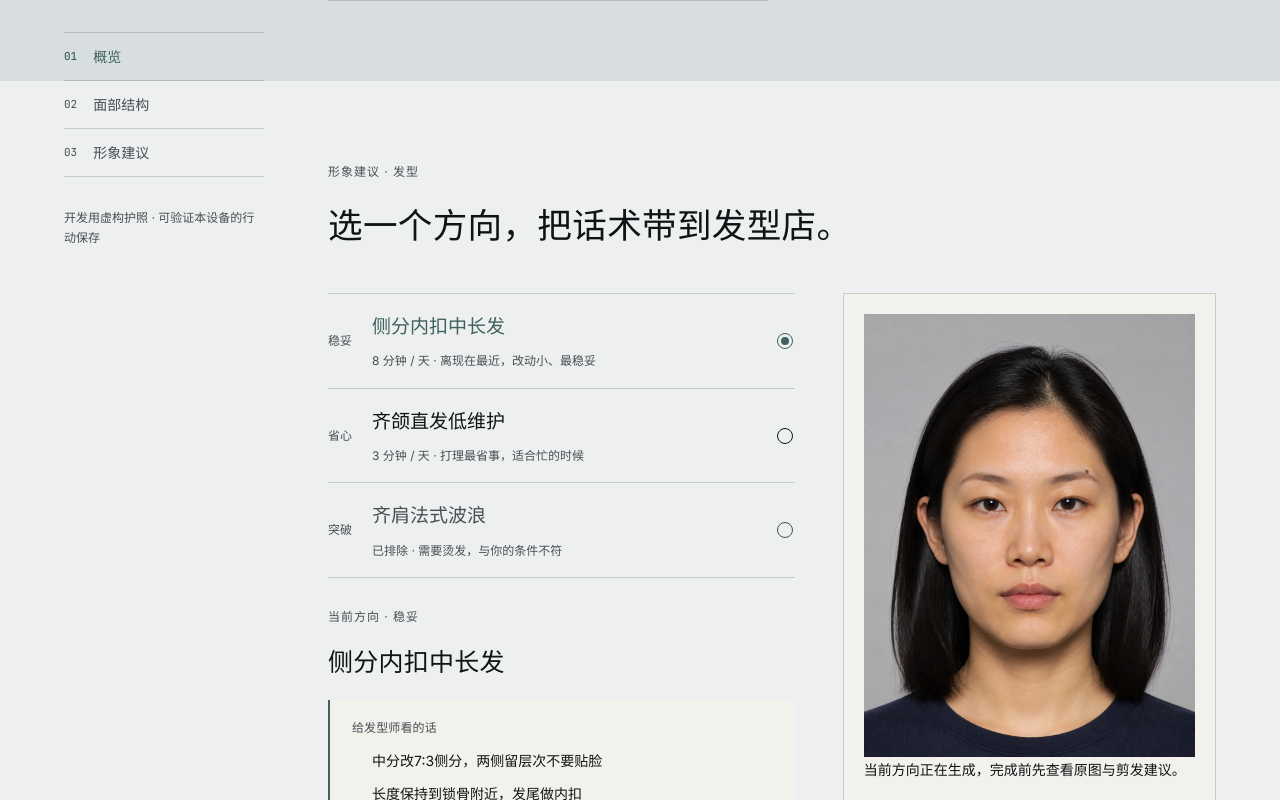
Scenario: S2 honest unavailable states › only describes the selected direction's real pending task
(page scrolled)
Expected: the element with test id "preview-state" shows "正在生成", x1=864 y1=761 x2=1186 y2=778
Click the radio button labelled "省心 齐颌直发低维护 3 分钟 / 天 · 打理最省事，适合忙的时候": point(439, 421) x1=328 y1=389 x2=795 y2=483
(page scrolled)
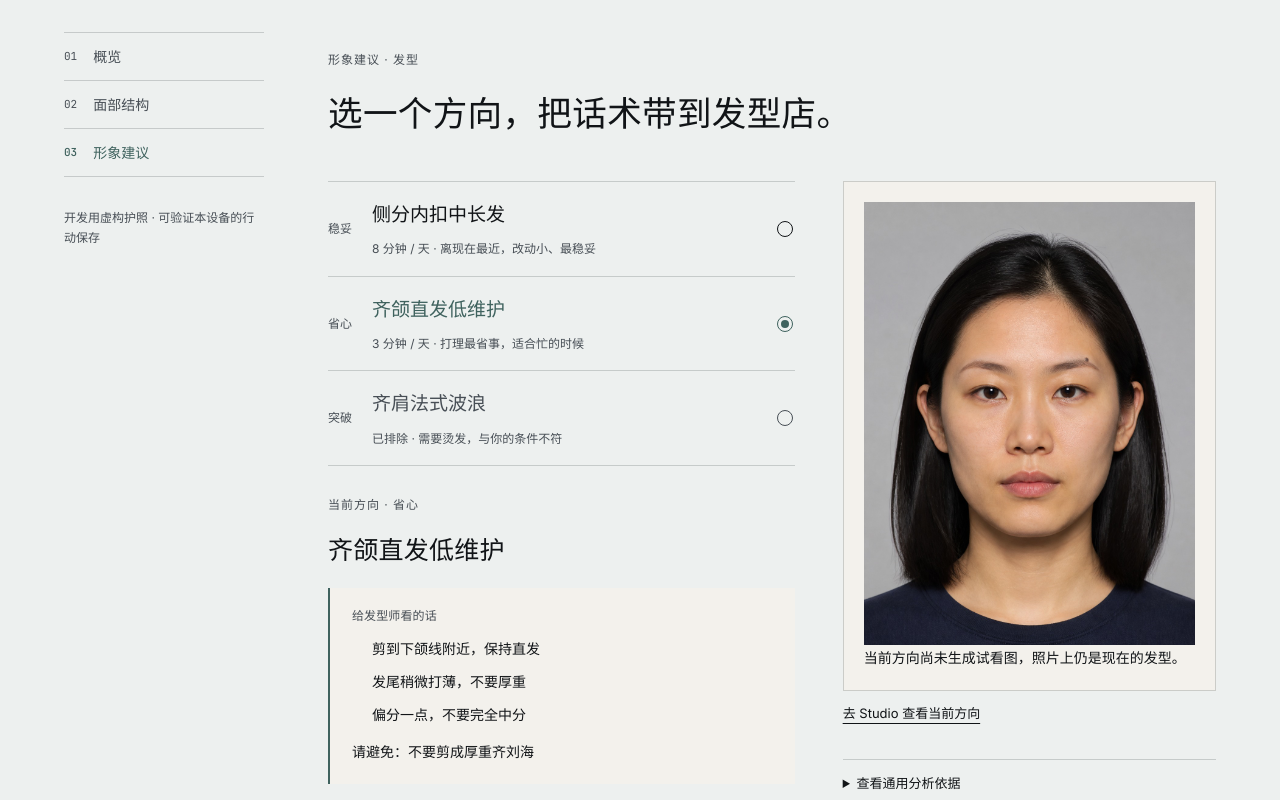
Result: the element with test id "preview-state" shows "尚未生成" at x1=864 y1=649 x2=1186 y2=666
Result: the message with test id "preview-state" no longer shows "正在生成"
